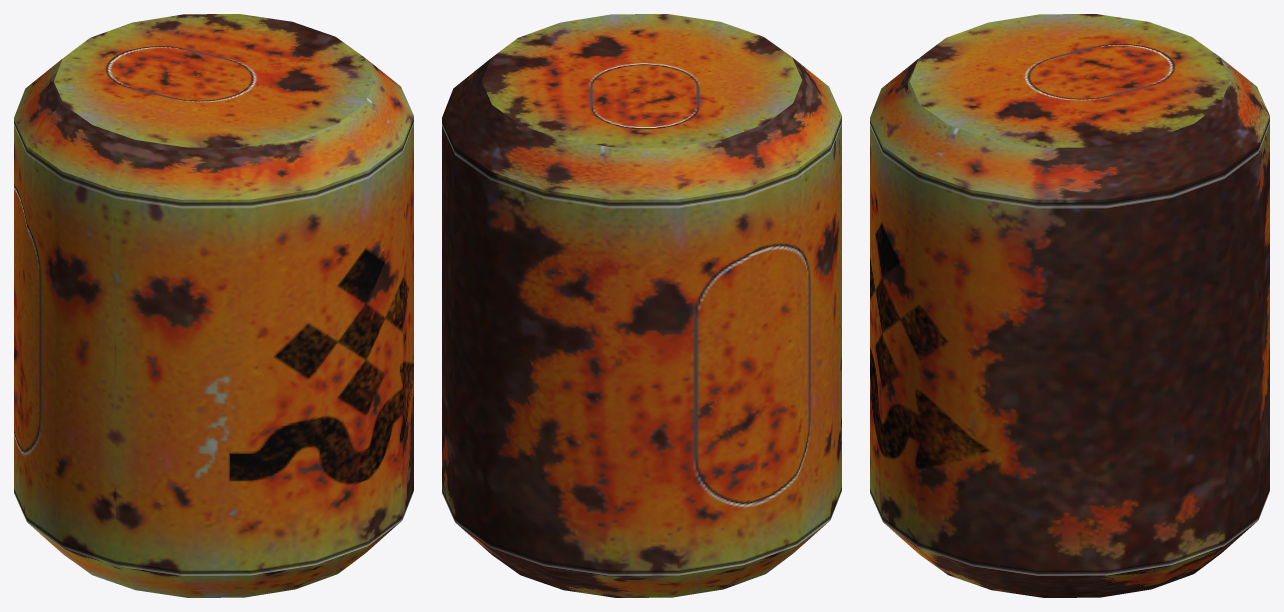
File: metal_tank.FBX
3 views of the same model, side by side, from view 1: azimuth 30°, elevation 25°; view 2: azimuth 150°, elevation 25°; view 3: azimuth 270°, elevation 25° (orthographic).
Visible parts, largest first — view 1: Cylinder027; view 2: Cylinder027; view 3: Cylinder027.
Part boxes in pixels (x1=…): Cylinder027: x1=14, y1=14, x2=413, y2=597; Cylinder027: x1=442, y1=14, x2=841, y2=597; Cylinder027: x1=870, y1=14, x2=1269, y2=597.
Size of the model in its own units: 31.77 by 40 by 32.19.
